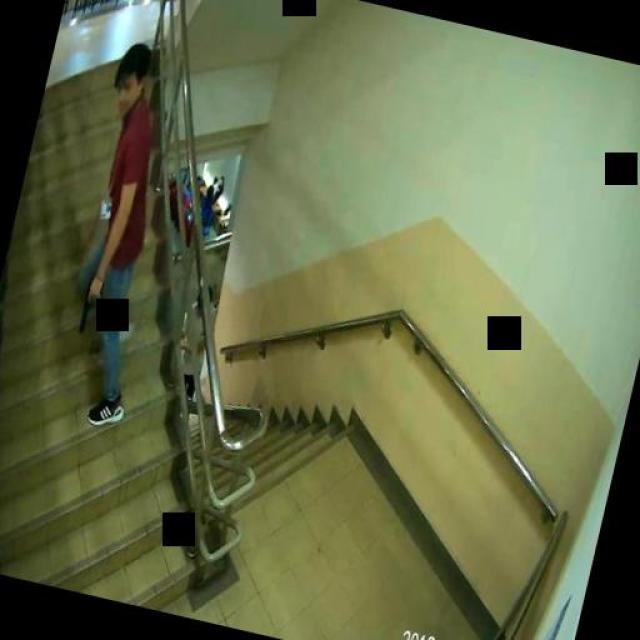gun: (76, 276, 104, 335)
